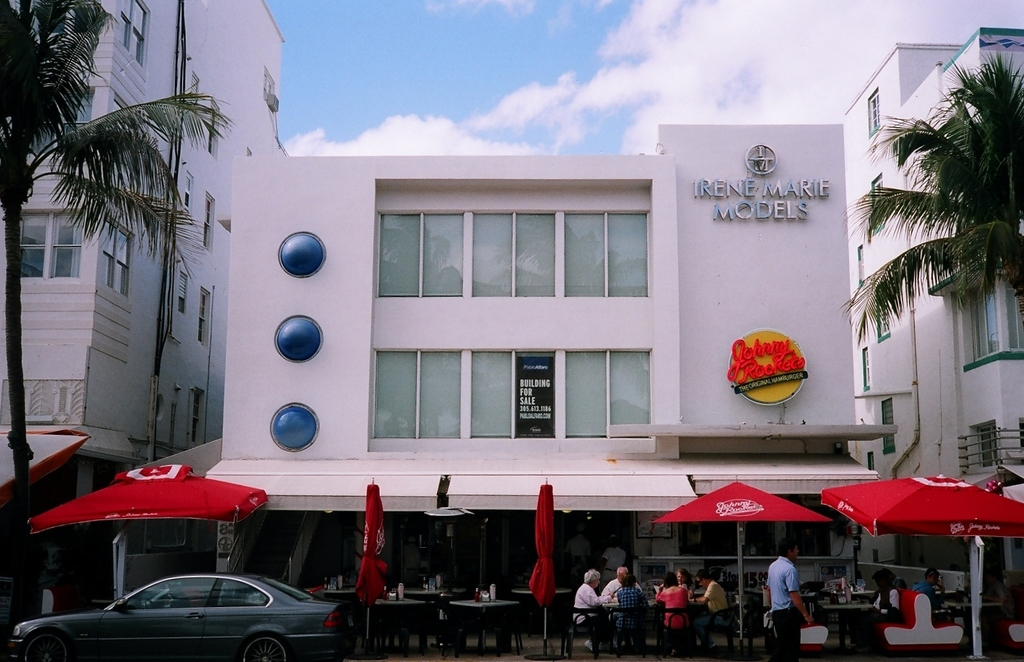Car: (8, 572, 353, 661)
